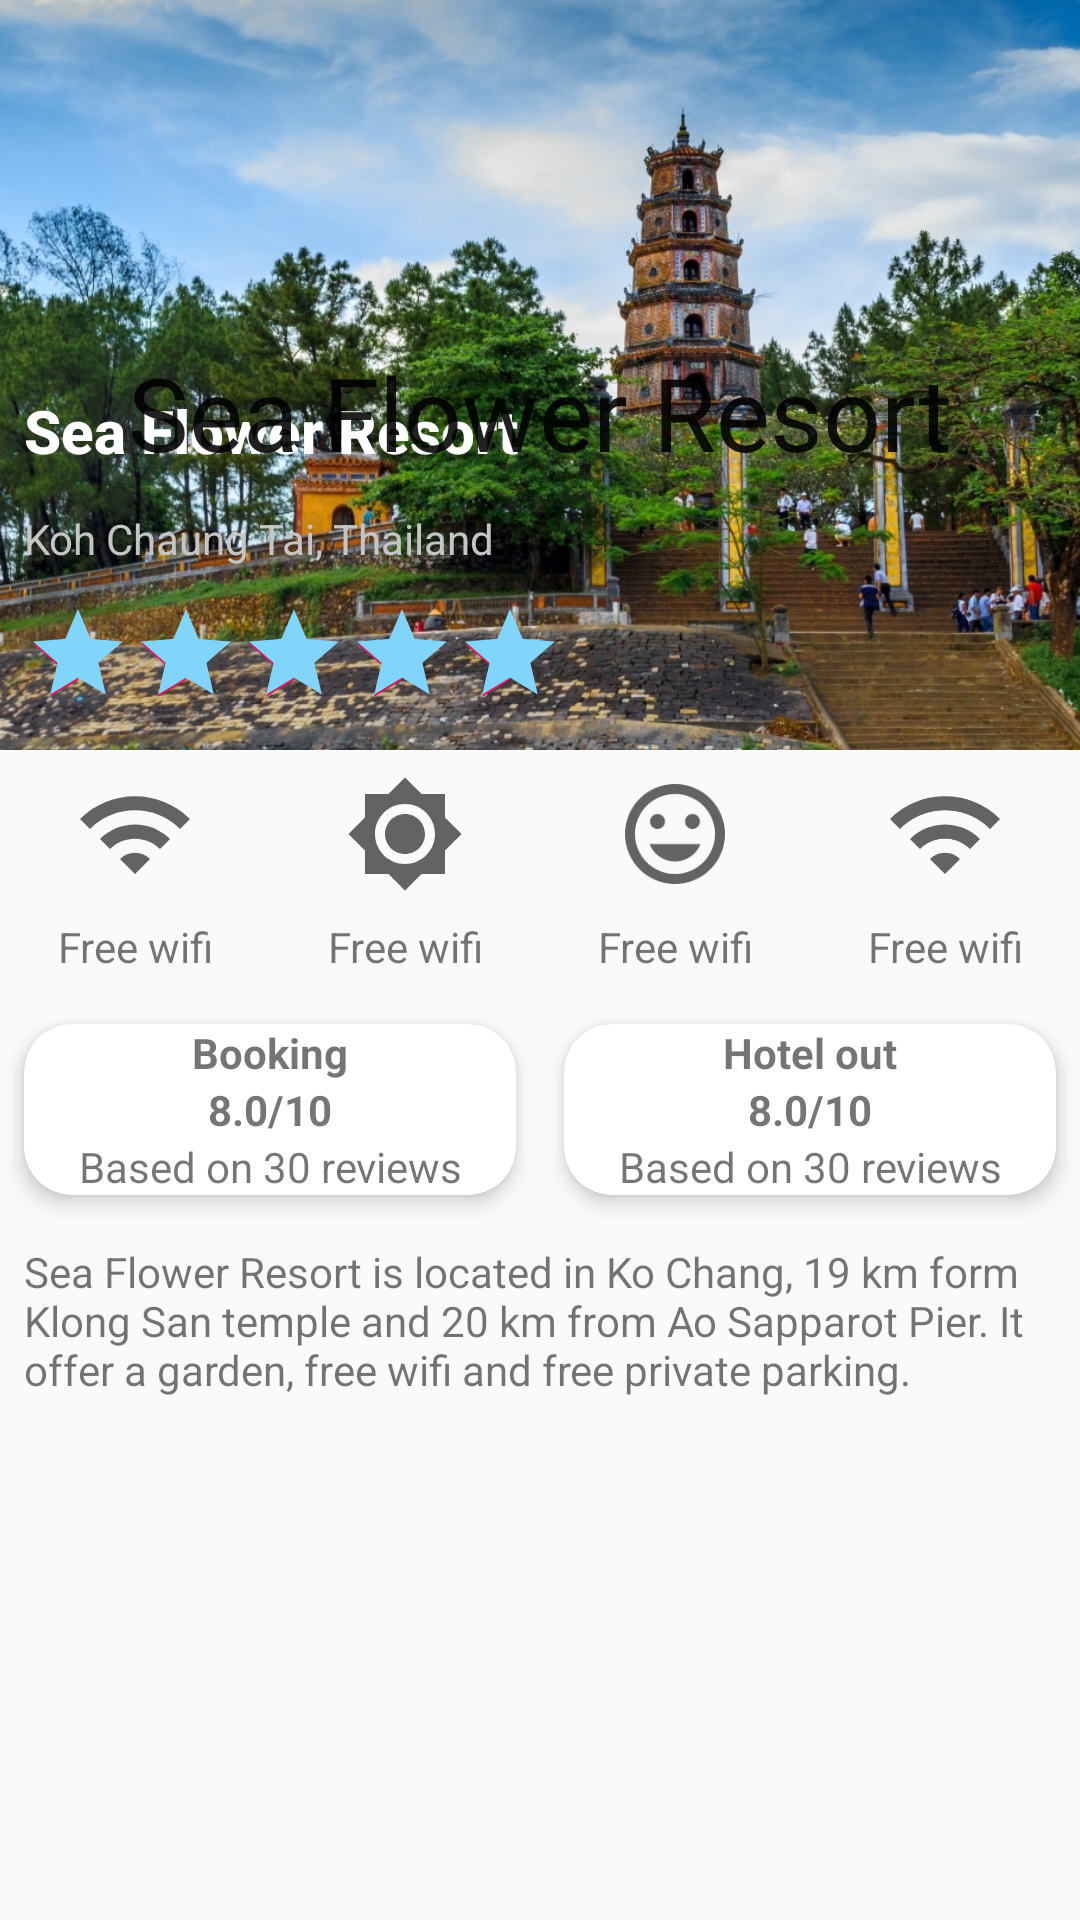

Screen size 1080 x 1920. Icon name, then its center in pixels as [x,y]:
brightness: [405,834]
tag faces: [675,834]
